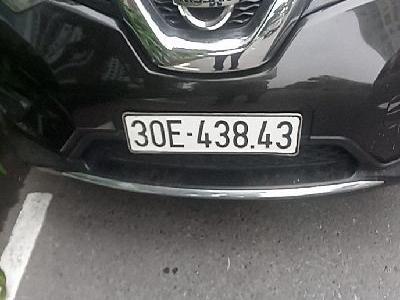number: (122, 113, 301, 157)
